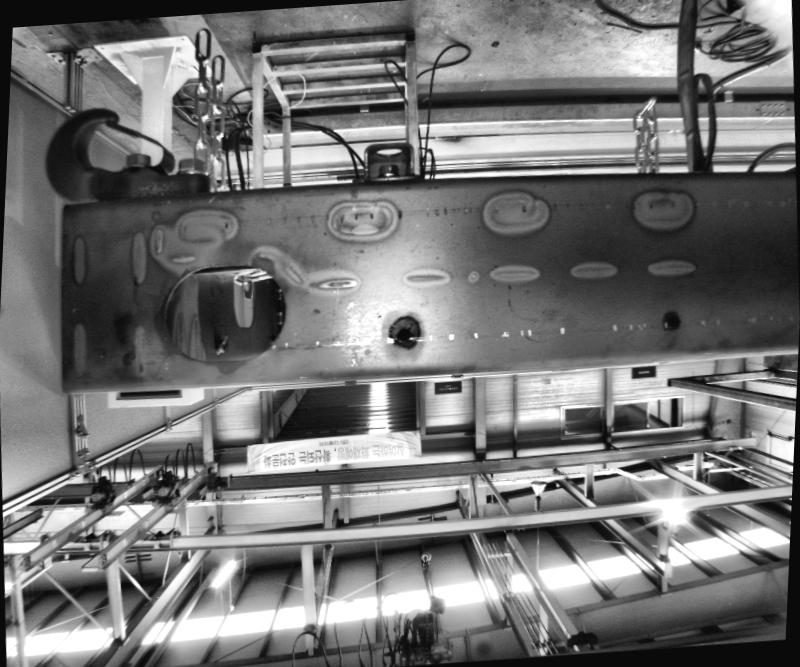bolt: (374, 164, 401, 182)
bracket: (340, 134, 432, 189)
hole: (150, 263, 294, 372), (394, 329, 414, 348), (666, 317, 680, 331)
